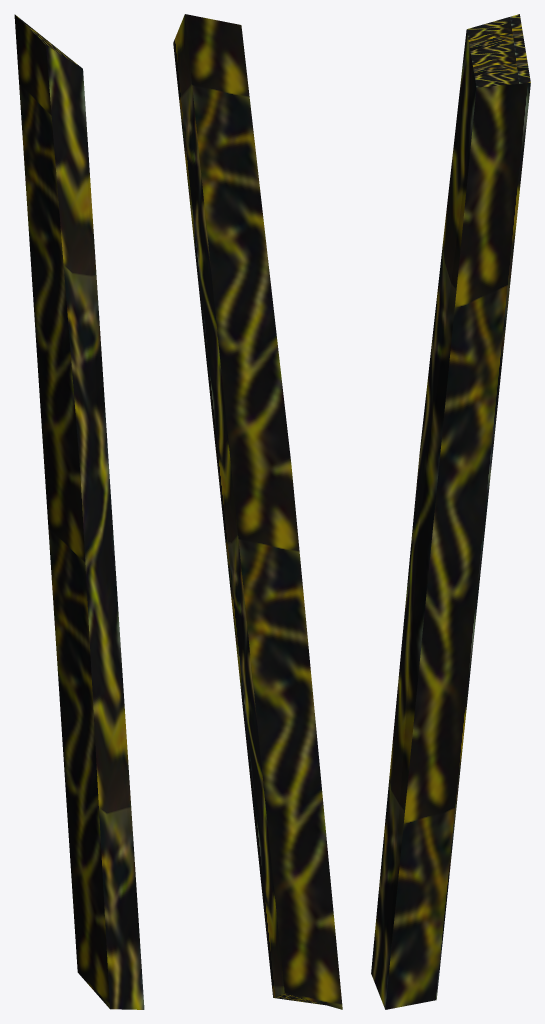
The model's file is ColdZone_Log_S_6.gltf.
3 views of the same model, side by side, from view 1: azimuth 90°, elevation 25°; view 2: azimuth 150°, elevation 25°; view 3: azimuth 330°, elevation 25° (orthographic). The views are drawn at different scales.
Visible parts, largest first — view 1: ColdZone_Log_S_6; view 2: ColdZone_Log_S_6; view 3: ColdZone_Log_S_6.
Part boxes in pixels (x1,y1,x2,y2): ColdZone_Log_S_6: [14, 14, 144, 1009]; ColdZone_Log_S_6: [173, 14, 342, 1009]; ColdZone_Log_S_6: [371, 14, 530, 1009].
Bounding box in the file's own units: 2.07 × 14.65 × 1.79.
1 material, 1 textured.
